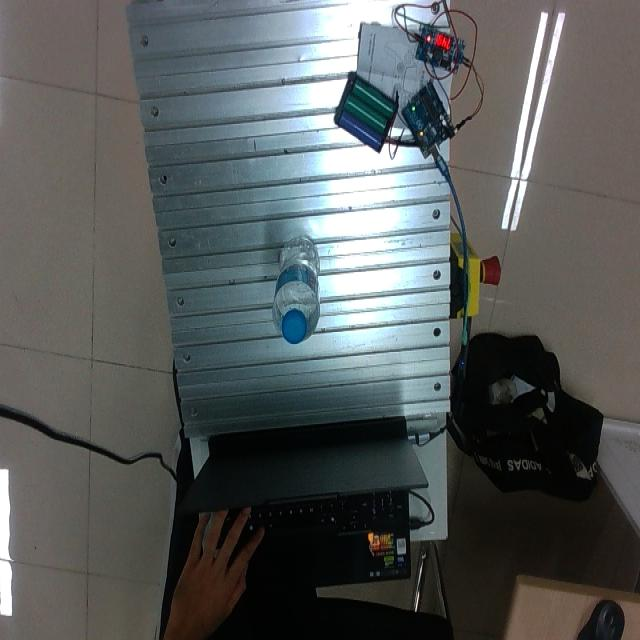lavie: (273, 239, 320, 345)
